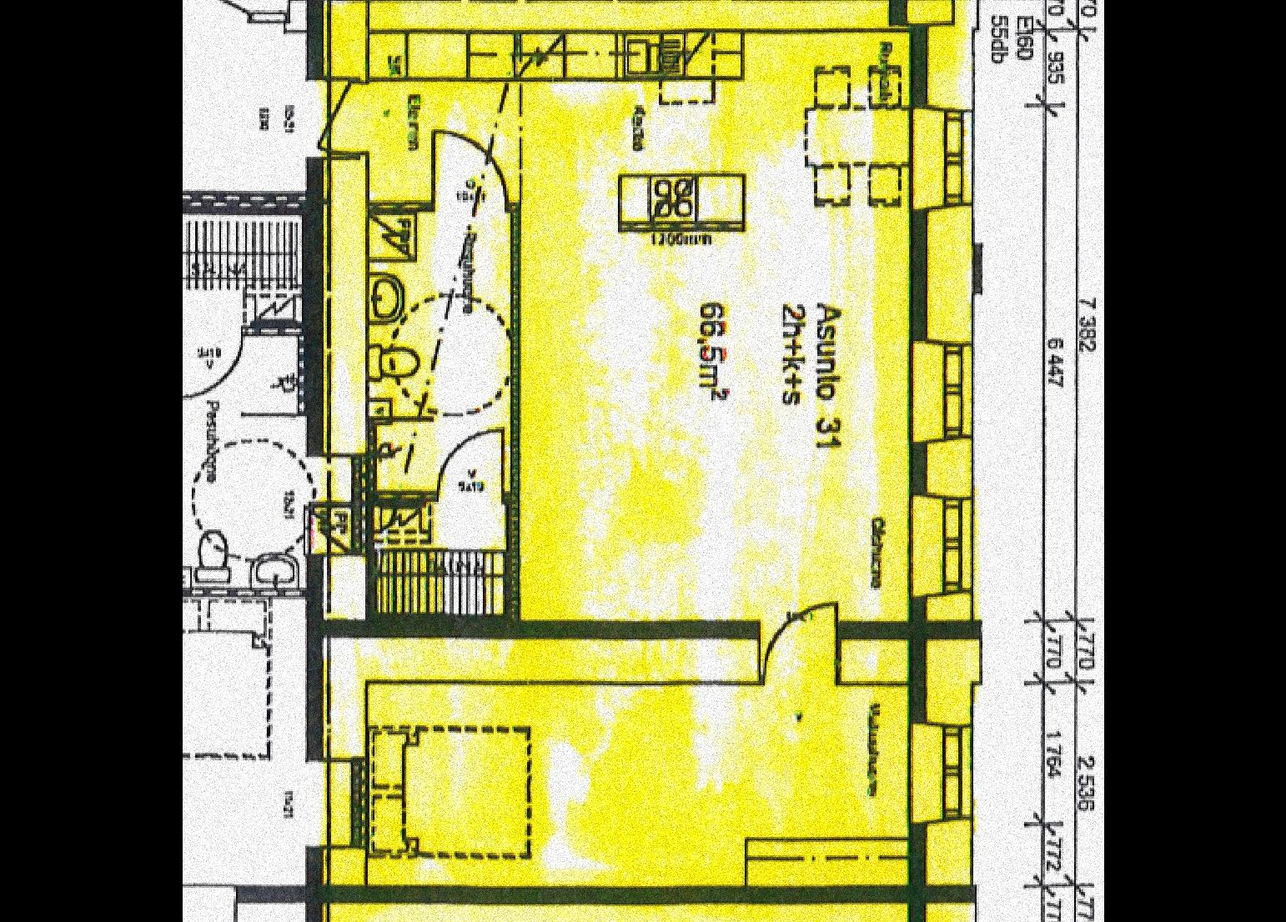door: (753, 596, 841, 690), (435, 133, 517, 214), (436, 426, 507, 505), (182, 305, 238, 405)
window: (943, 112, 975, 203), (931, 729, 959, 824), (937, 347, 965, 435), (934, 501, 960, 587)
zone: (521, 33, 909, 619), (320, 651, 909, 884), (323, 0, 525, 618), (182, 217, 314, 591), (182, 602, 308, 895)
